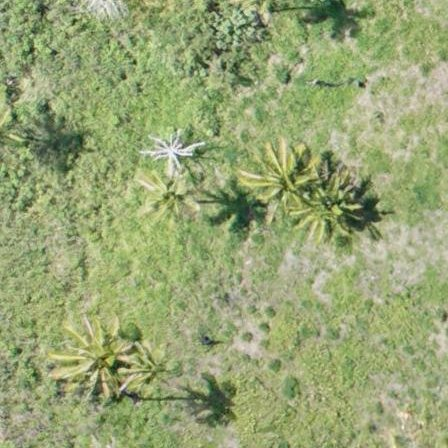palm_tree: (57, 320, 130, 394), (120, 335, 181, 395), (300, 175, 360, 235), (251, 153, 306, 212), (136, 170, 196, 220)
